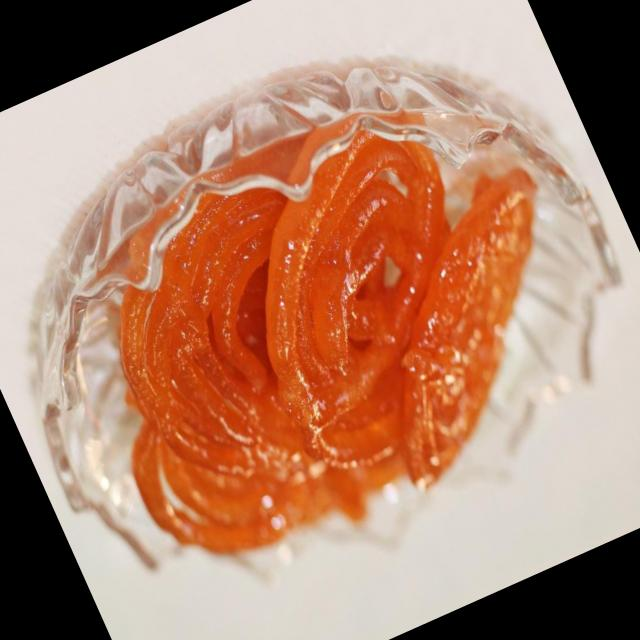jalebi: (38, 83, 629, 592)
